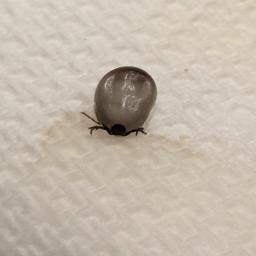Ixodes scapularis: (81, 66, 157, 138)
